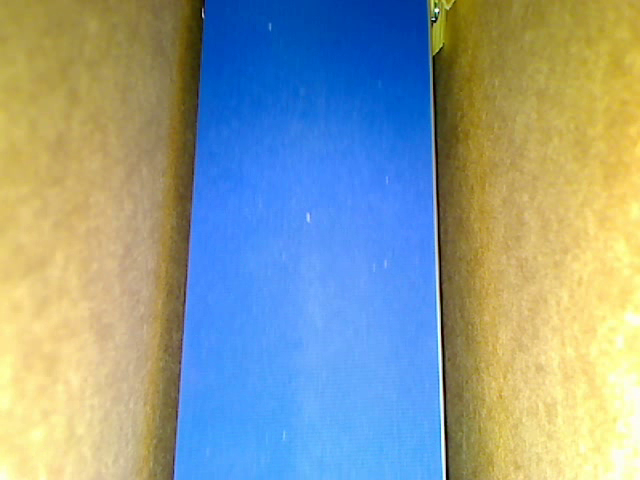penne: (427, 1, 449, 60)
